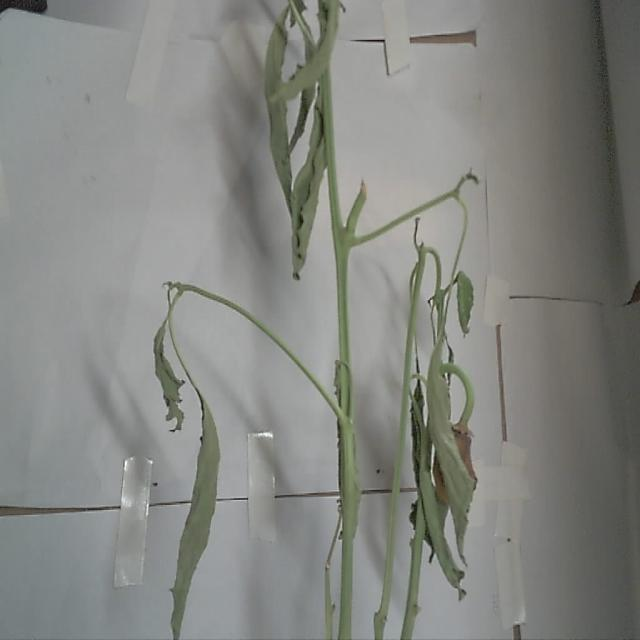Leaf: (166, 362, 218, 638), (414, 425, 467, 593), (288, 89, 328, 272), (152, 292, 185, 430)
